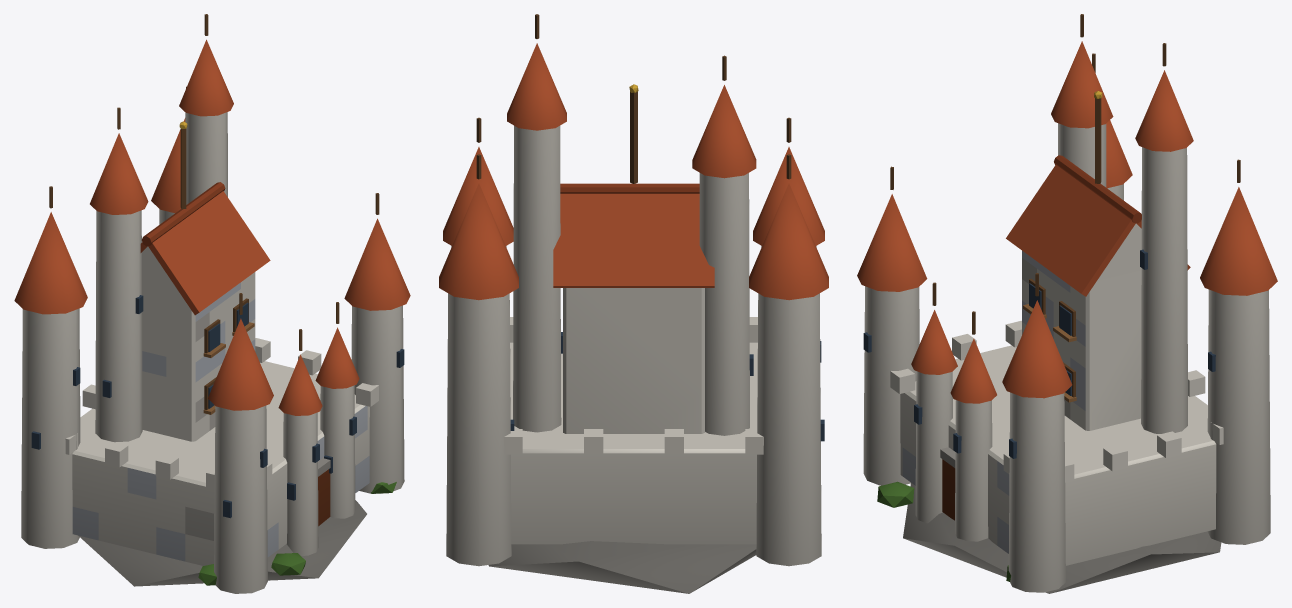
File: building_0.glb
The picture shows the model from 3 angles, left to right: view 1: azimuth 30°, elevation 25°; view 2: azimuth 150°, elevation 25°; view 3: azimuth 270°, elevation 25°; orthographic projection. The views are drawn at different scales.
Visible parts, largest first — view 1: building_0; view 2: building_0; view 3: building_0.
Part boxes in pixels (bbox=[...]): building_0: bbox=[14, 14, 410, 593]; building_0: bbox=[439, 14, 828, 593]; building_0: bbox=[857, 14, 1277, 593].
Bounding box in the file's own units: 1.46 × 1.89 × 1.39.
